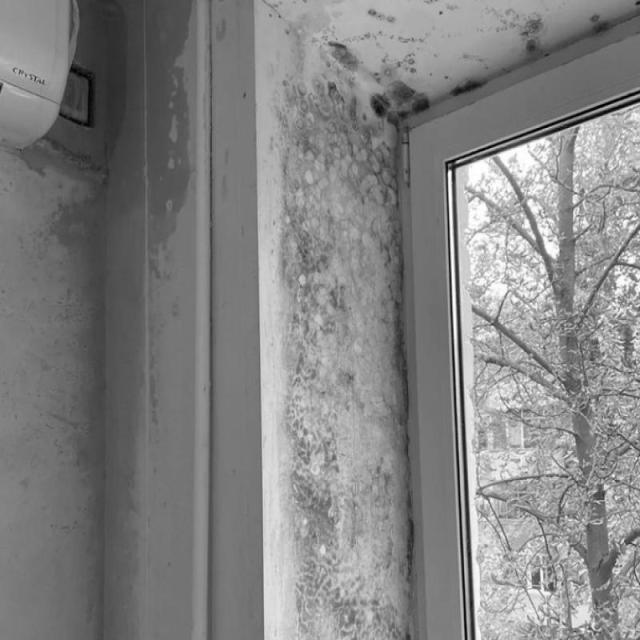stain marks: (21, 0, 220, 639), (256, 1, 434, 639)
